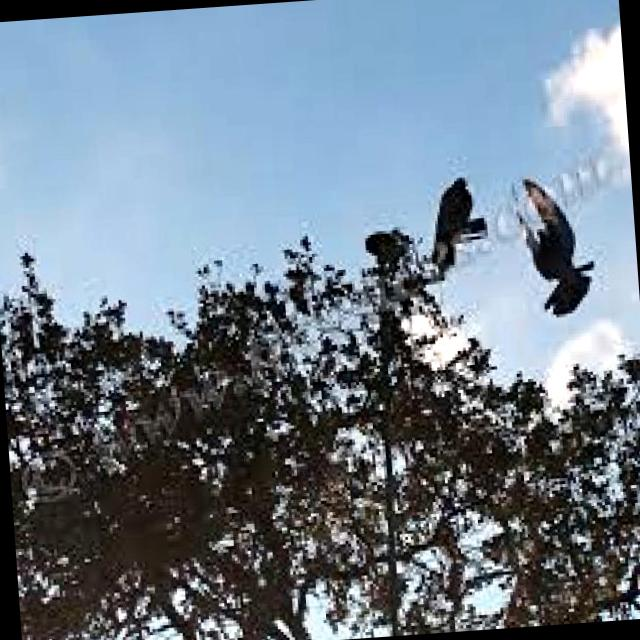bird: (508, 167, 616, 351), (424, 166, 506, 280)
